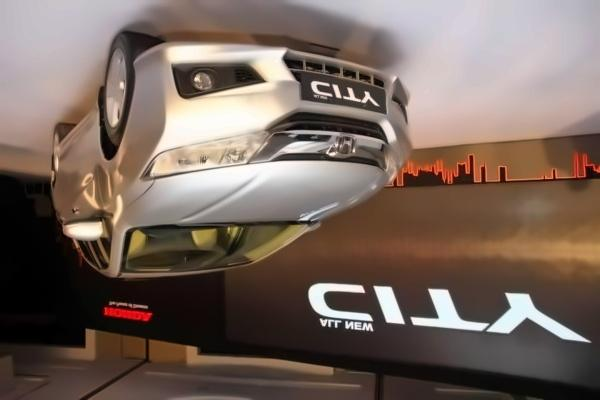Car hood: (128, 158, 391, 228)
Fender - -F-L-: (96, 90, 158, 213)
Front bumper: (118, 38, 426, 140)
Headlight - -L-: (137, 128, 277, 184)
Headlight - -R-: (375, 138, 409, 186)
Passenger-s door - -F-L-: (70, 98, 120, 282)
Passenger-s door - -R-L-: (48, 129, 97, 270)
Side bumper - -L-: (48, 95, 106, 168), (57, 213, 115, 249)
